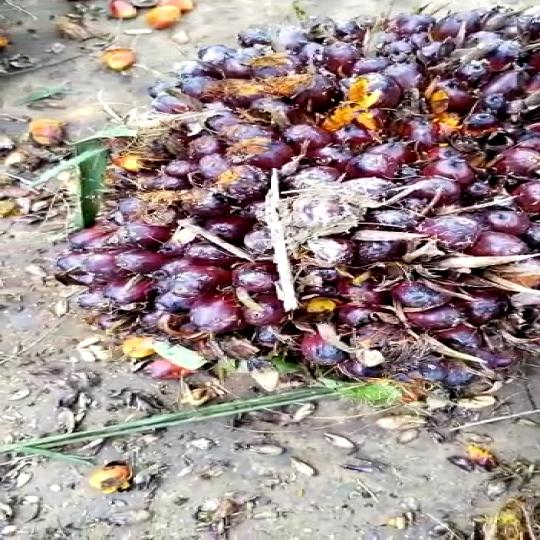masak: (41, 6, 540, 429)
